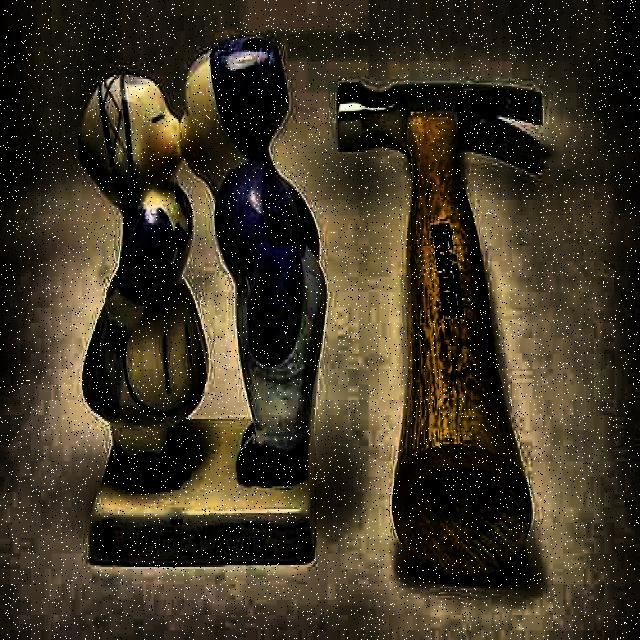hammer: (336, 78, 546, 586)
